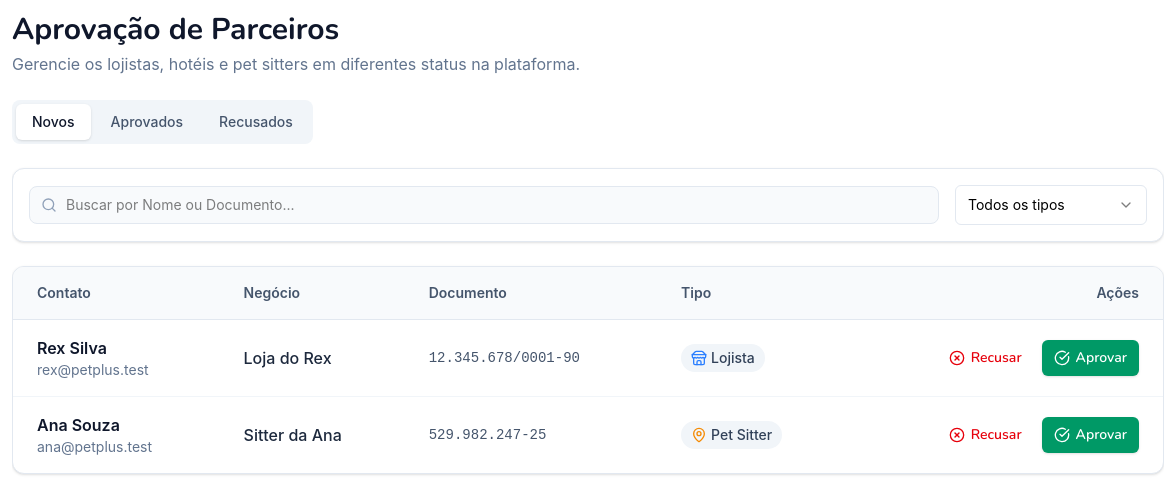
Test case: busca parceiros pelo documento
The image size is (1164, 492).
Expected: the text "Loja do Rex" is shown, 244,348 -> 332,368
Type "12345678" into the field with placeholder "Buscar por Nome ou Documento...".
click(484, 205); type("12345678")  # box 29,186 -> 939,224
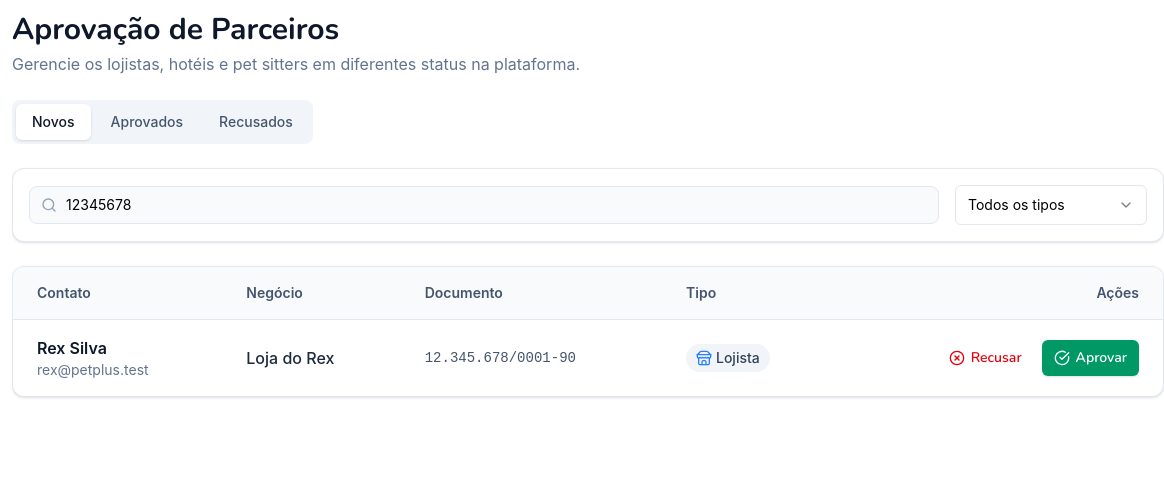
Expected: the text "Loja do Rex" is shown, 246,348 -> 334,368
Expected: the text "Sitter da Ana" is gone
